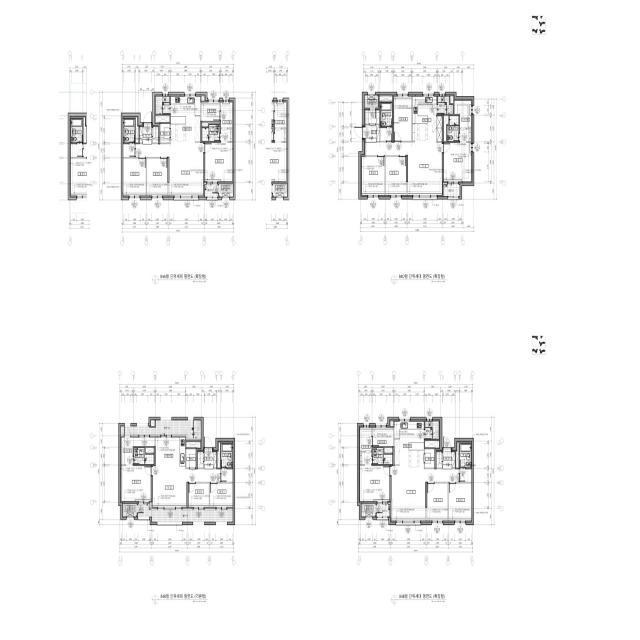space_balconi: (138, 505, 233, 522), (121, 420, 201, 438), (438, 96, 453, 114), (425, 421, 439, 439), (156, 96, 170, 114), (444, 184, 460, 196), (377, 504, 390, 517), (205, 184, 218, 197)
space_bedroom: (444, 129, 471, 182), (205, 129, 232, 182), (121, 466, 151, 501), (360, 466, 390, 501), (449, 483, 472, 521), (362, 157, 385, 195), (123, 158, 146, 196), (427, 483, 448, 521), (147, 158, 168, 196), (386, 157, 406, 195), (210, 483, 233, 507), (188, 483, 209, 507)
space_dressroom: (121, 437, 155, 466), (454, 101, 471, 128), (360, 428, 372, 465), (221, 102, 232, 128)
space_front: (363, 125, 379, 142), (204, 452, 216, 469), (443, 452, 455, 469), (140, 127, 152, 144)
space_kitchen: (394, 422, 424, 469), (412, 97, 442, 142), (171, 96, 200, 142), (156, 437, 185, 467)
space_living_room: (365, 143, 442, 195), (391, 466, 459, 521), (136, 143, 203, 196), (153, 466, 220, 507)
space_other: (394, 96, 411, 141), (372, 428, 393, 446), (201, 102, 220, 121), (365, 110, 379, 124), (186, 449, 196, 468), (425, 449, 435, 468), (160, 124, 170, 143), (221, 469, 233, 482), (123, 144, 135, 157), (460, 469, 471, 482), (381, 128, 392, 141), (444, 116, 448, 141), (425, 441, 439, 448), (156, 116, 170, 123), (436, 452, 442, 468), (202, 122, 220, 127), (186, 442, 200, 448), (198, 452, 203, 468), (153, 127, 158, 143), (217, 442, 220, 468), (456, 442, 459, 468), (136, 117, 139, 143), (380, 96, 392, 101), (384, 448, 393, 453), (146, 448, 154, 453), (151, 420, 155, 426), (450, 96, 453, 103), (390, 421, 393, 426), (201, 96, 204, 101)
space_outdoor_room: (361, 504, 376, 517), (123, 504, 137, 517), (219, 184, 233, 197), (365, 95, 378, 108)
space_toilet: (134, 448, 154, 464), (373, 448, 392, 464), (447, 116, 459, 141), (123, 119, 135, 143), (202, 125, 220, 141), (221, 444, 232, 468), (460, 444, 471, 468), (381, 103, 392, 126)
